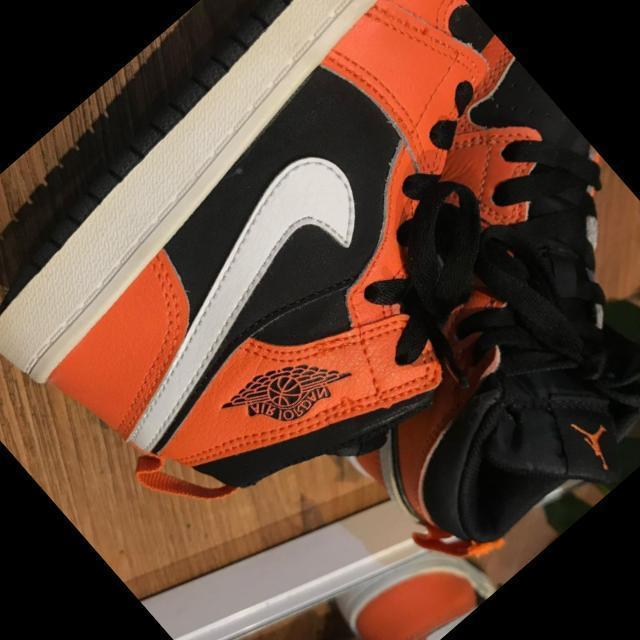nike fake jordan 1: (0, 0, 640, 598), (236, 76, 640, 599)
